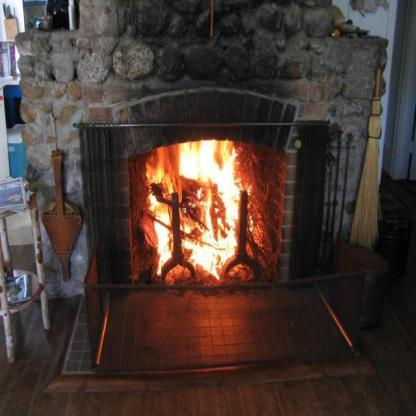Fire: (141, 140, 261, 280)
